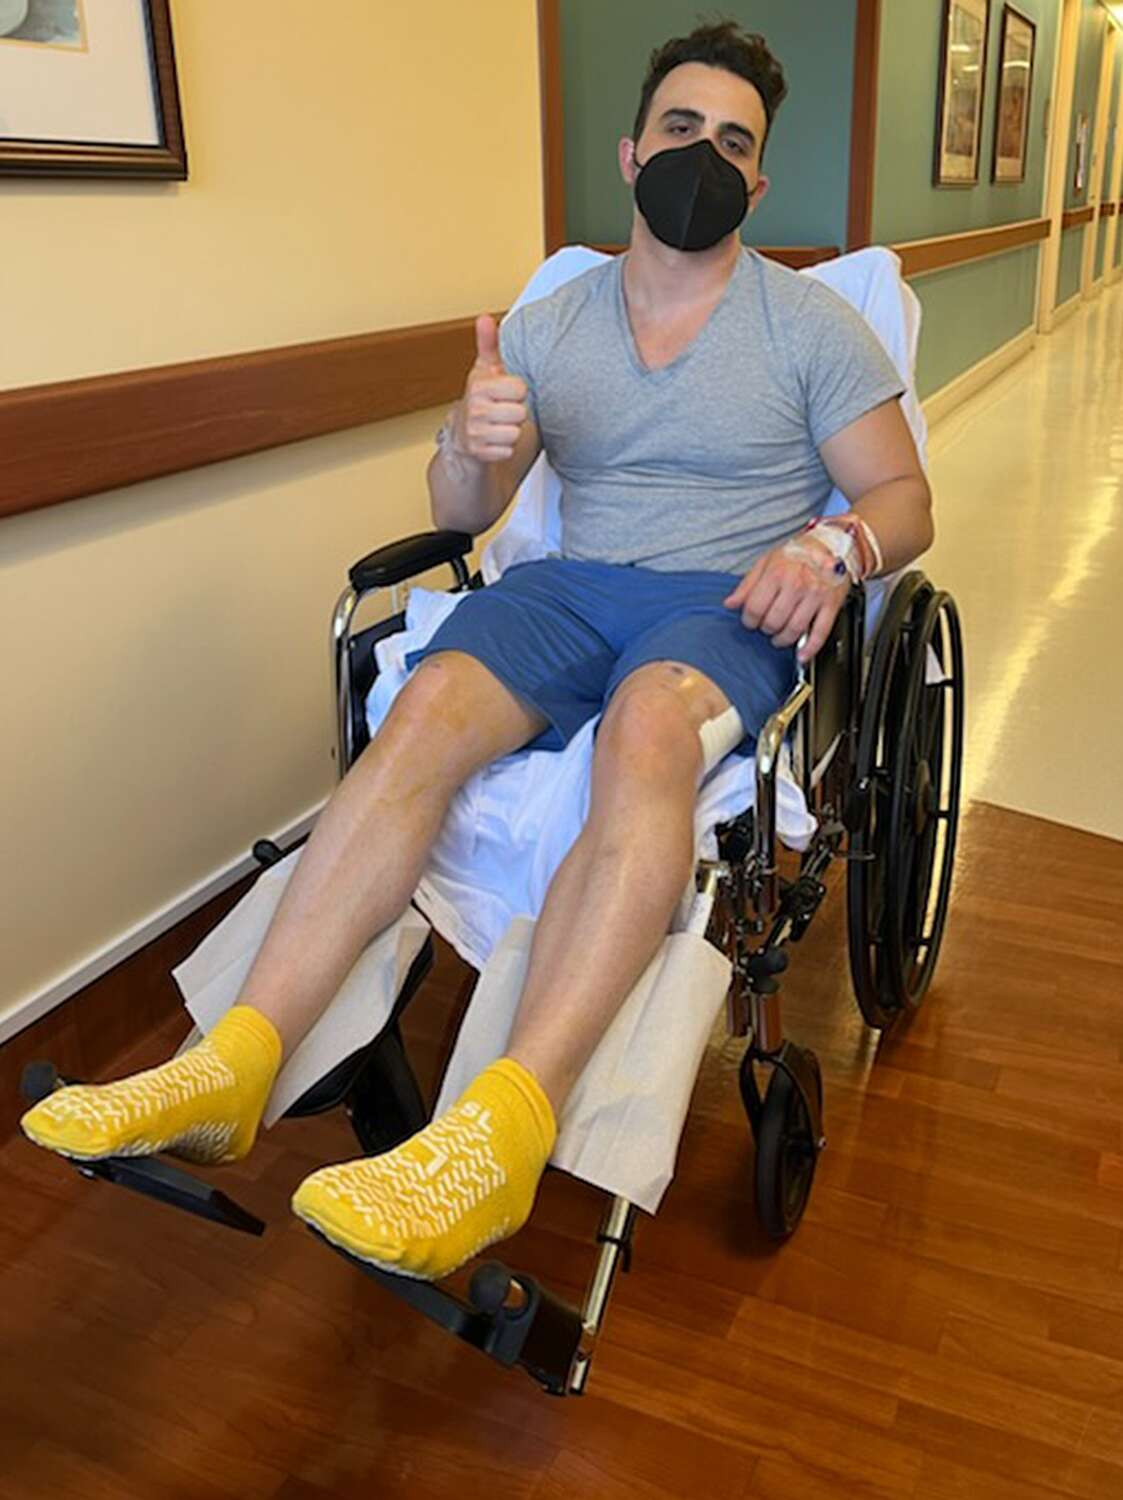wheelchair: (20, 20, 964, 1393)
